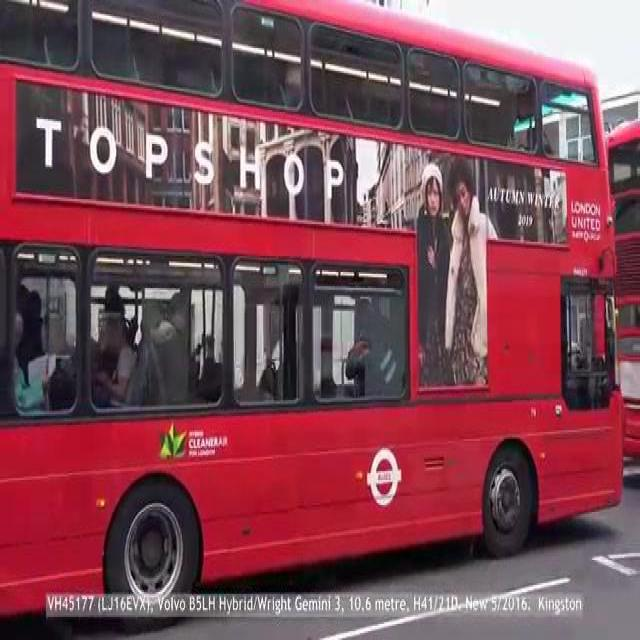motorcycle: (0, 12, 617, 610), (599, 101, 640, 462)
